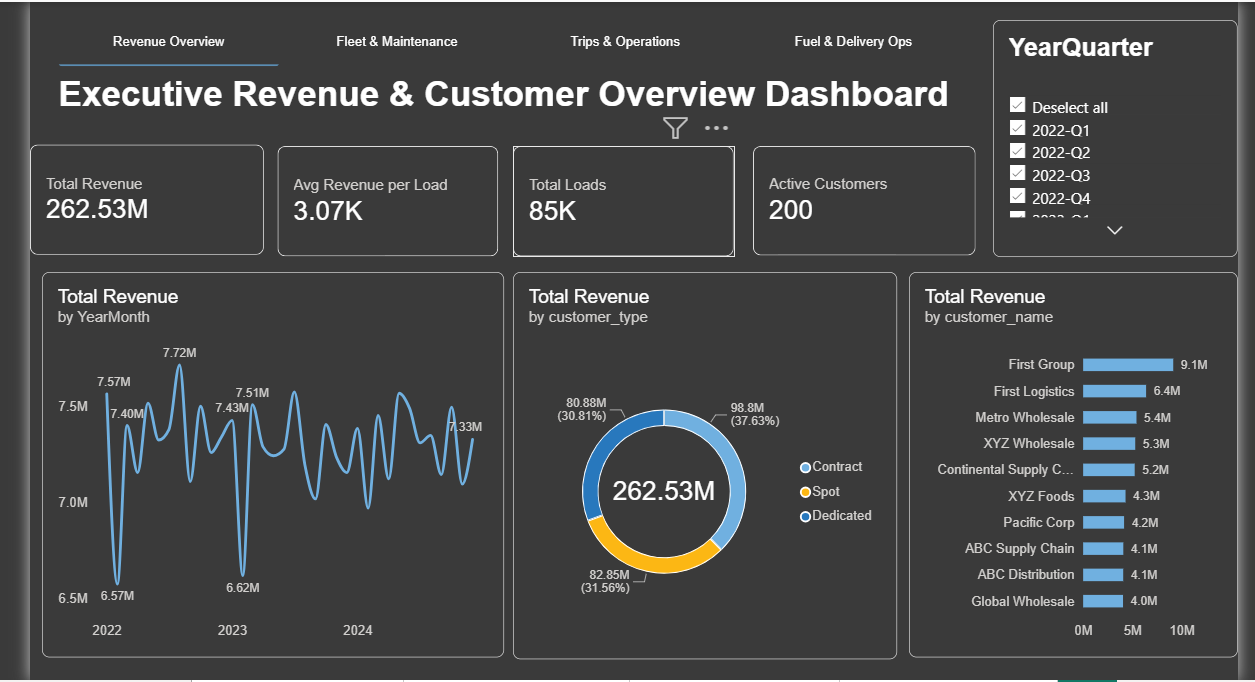

Layout of this report page (visuals, bound fields, positions):
{"tool":"powerbi","page":{"name":"Revenue Overview","canvas":[1280,720],"ordinal":0},"visuals":[{"type":"cardVisual","fields":{"Data":["customers.Avg Revenue per Load"]},"box":[262.9,152.9,234.3,117.1],"z":0},{"type":"cardVisual","fields":{"Data":["customers.Active Customers"]},"box":[767.1,152.9,236.7,116.7],"z":1000},{"type":"cardVisual","fields":{"Data":["customers.Total Revenue"]},"box":[0,151.4,248.6,117.1],"z":2000},{"type":"cardVisual","fields":{"Data":["customers.Total Loads"]},"box":[512.9,152.9,234.3,117.1],"z":3000},{"type":"lineChart","fields":{"Category":["date_dim.YearMonth"],"Y":["customers.Total Revenue"]},"box":[12.7,286.3,489.9,408.8],"z":4000},{"type":"donutChart","fields":{"Category":["customers.customer_type"],"Y":["customers.Total Revenue"]},"box":[512.2,286.3,407.2,410.4],"z":5000},{"type":"clusteredBarChart","fields":{"Category":["customers.customer_name"],"Y":["customers.Total Revenue"]},"box":[932.1,286.3,348.3,408.8],"z":6000},{"type":"listSlicer","fields":{"Values":["date_dim.YearQuarter"]},"box":[1021.2,19.1,259.3,251.3],"z":7000},{"type":"textbox","box":[0,11.4,1004.3,124.3],"z":8000},{"type":"pageNavigator","box":[30.2,19.1,960.7,49.3],"z":9002}]}

Visuals, with their boxes on the page's 1280x720 design canvas (x1, y1, x2, y2). These are canvas units, not pixel positions in the 1255x682 screenshot, which may show the page scaled, cropped or inside an application window:
cardVisual - customers.Avg Revenue per Load: {"x1": 263, "y1": 153, "x2": 497, "y2": 270}
cardVisual - customers.Active Customers: {"x1": 767, "y1": 153, "x2": 1004, "y2": 270}
cardVisual - customers.Total Revenue: {"x1": 0, "y1": 151, "x2": 249, "y2": 268}
cardVisual - customers.Total Loads: {"x1": 513, "y1": 153, "x2": 747, "y2": 270}
lineChart - date_dim.YearMonth x customers.Total Revenue: {"x1": 13, "y1": 286, "x2": 503, "y2": 695}
donutChart - customers.customer_type x customers.Total Revenue: {"x1": 512, "y1": 286, "x2": 919, "y2": 697}
clusteredBarChart - customers.customer_name x customers.Total Revenue: {"x1": 932, "y1": 286, "x2": 1280, "y2": 695}
listSlicer - date_dim.YearQuarter: {"x1": 1021, "y1": 19, "x2": 1280, "y2": 270}
textbox: {"x1": 0, "y1": 11, "x2": 1004, "y2": 136}
pageNavigator: {"x1": 30, "y1": 19, "x2": 991, "y2": 68}
